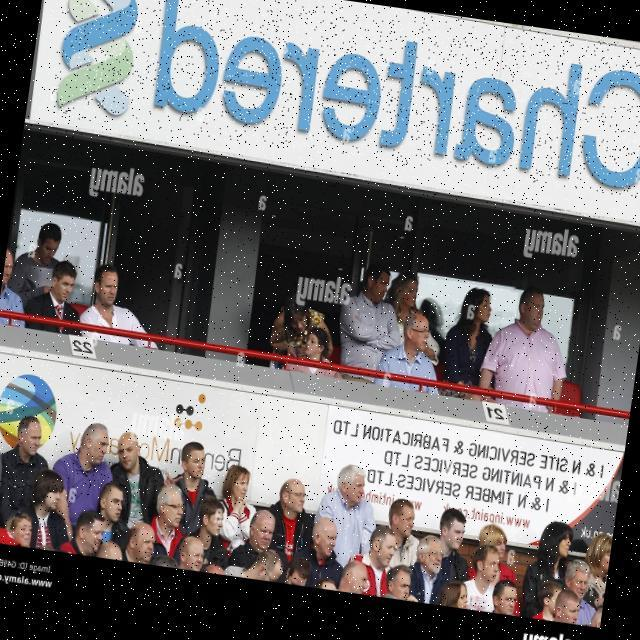Standard Chartered: (48, 0, 640, 200)
